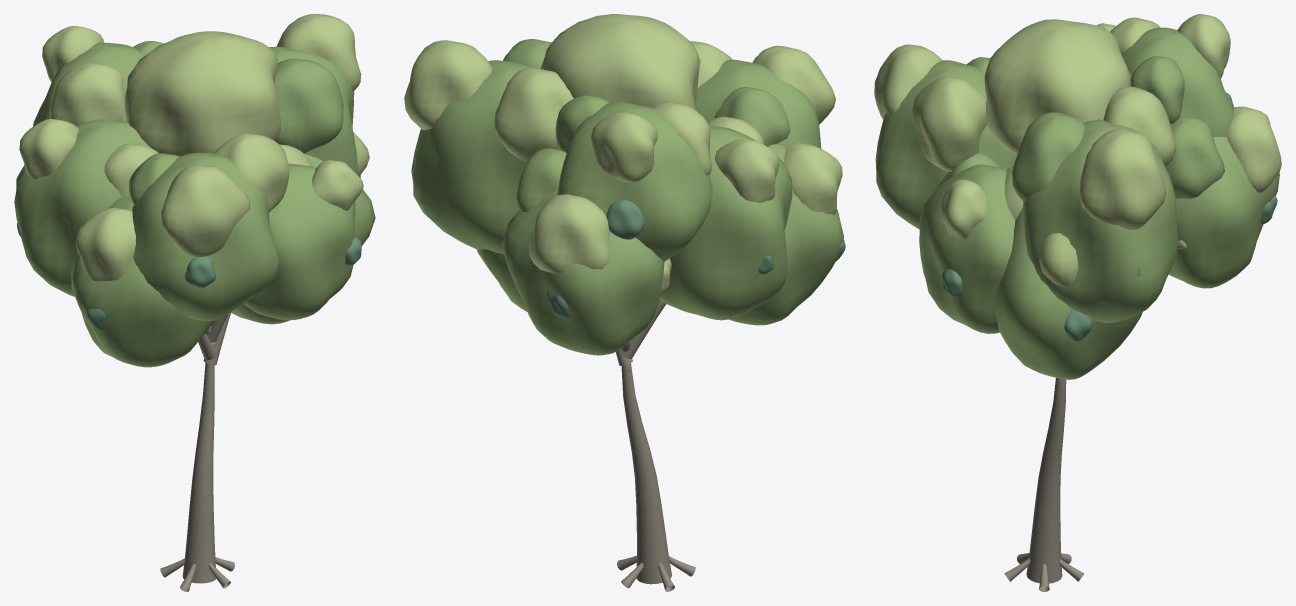
File: diotree20.glb
3 views of the same model, side by side, from view 1: azimuth 30°, elevation 25°; view 2: azimuth 150°, elevation 25°; view 3: azimuth 270°, elevation 25° (orthographic). The views are drawn at different scales.
Visible parts, largest first — view 1: DioTree20_DioLeaf, DioTree20_DioLeafLight, DioTree20_Trunk, DioTree20_DioLeafShade; view 2: DioTree20_DioLeaf, DioTree20_DioLeafLight, DioTree20_Trunk, DioTree20_DioLeafShade; view 3: DioTree20_DioLeaf, DioTree20_DioLeafLight, DioTree20_Trunk, DioTree20_DioLeafShade.
Part boxes in pixels (left/top/right/bottom): DioTree20_DioLeaf: left=14, top=41, right=375, bottom=367; DioTree20_DioLeafLight: left=19, top=14, right=369, bottom=281; DioTree20_Trunk: left=160, top=312, right=234, bottom=591; DioTree20_DioLeafShade: left=17, top=223, right=361, bottom=330; DioTree20_DioLeaf: left=411, top=39, right=843, bottom=355; DioTree20_DioLeafLight: left=404, top=14, right=842, bottom=294; DioTree20_Trunk: left=616, top=300, right=695, bottom=591; DioTree20_DioLeafShade: left=412, top=161, right=845, bottom=318; DioTree20_DioLeaf: left=875, top=27, right=1279, bottom=379; DioTree20_DioLeafLight: left=874, top=14, right=1281, bottom=286; DioTree20_Trunk: left=1004, top=378, right=1084, bottom=591; DioTree20_DioLeafShade: left=941, top=92, right=1277, bottom=341.
Size of the model in its own units: 7 by 10.29 by 6.8.
